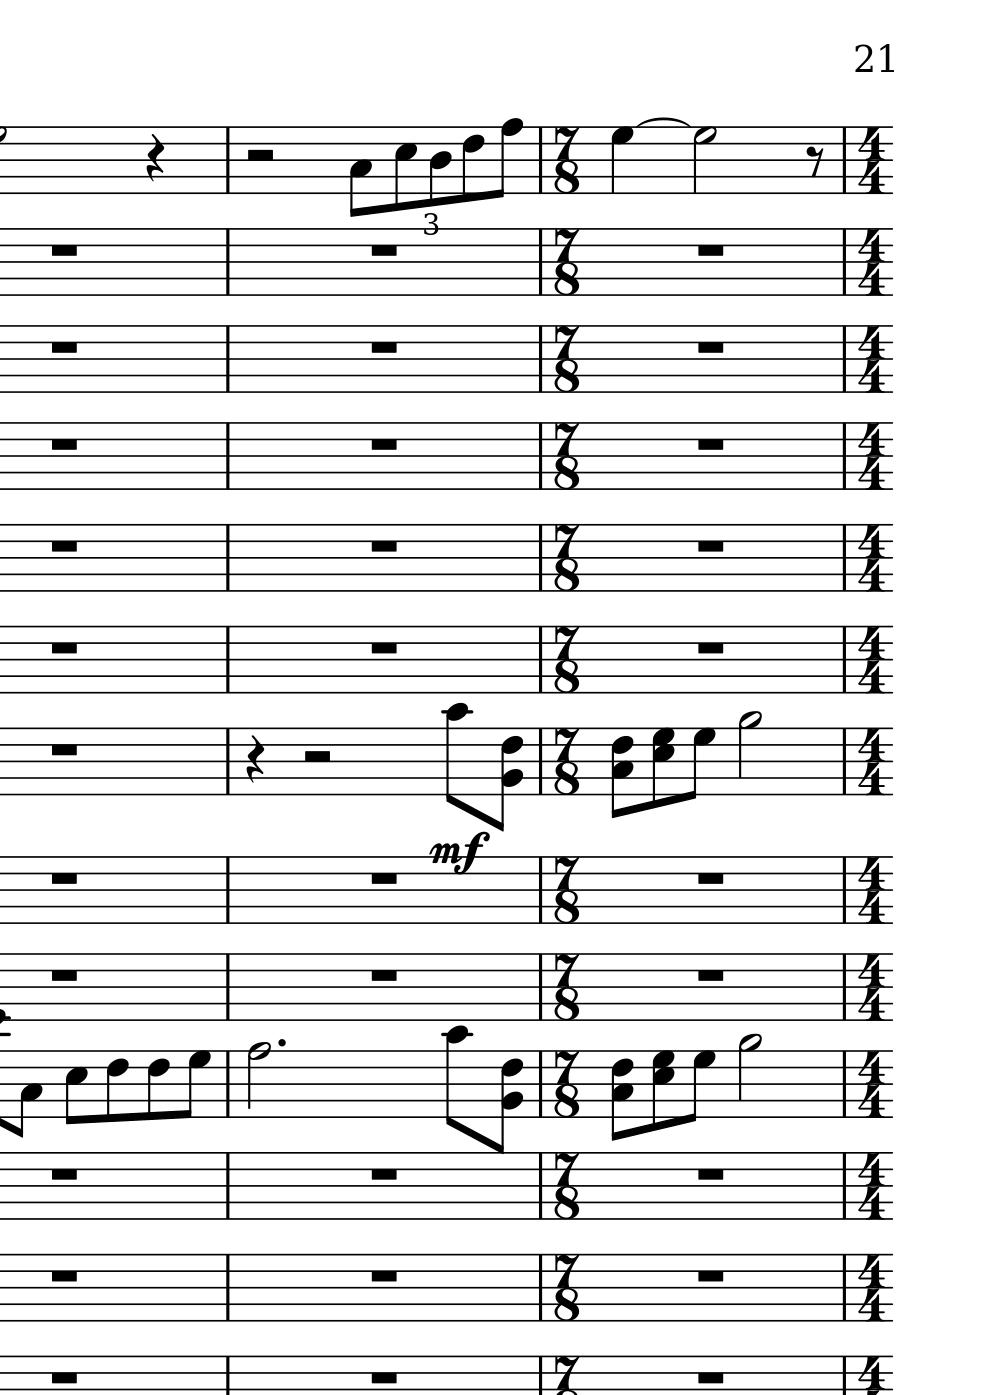1: (877, 41, 894, 75)
2: (850, 43, 875, 74)
2_7: (691, 124, 717, 195)
2_8: (244, 1040, 271, 1122)
2_9: (735, 710, 763, 797), (736, 1034, 763, 1119)
3: (419, 212, 441, 239)
4: (855, 127, 890, 162), (857, 1178, 886, 1220), (855, 324, 888, 360), (855, 856, 888, 891), (857, 455, 888, 492), (857, 1353, 887, 1392), (855, 227, 888, 261), (856, 727, 888, 762), (856, 422, 887, 458), (856, 953, 887, 988), (856, 1050, 887, 1085), (857, 1253, 888, 1288), (857, 555, 886, 592), (856, 160, 888, 193), (857, 625, 888, 660), (856, 359, 887, 392), (857, 261, 887, 295), (857, 762, 887, 795), (857, 890, 887, 923), (857, 987, 887, 1020), (857, 659, 886, 693), (857, 1287, 886, 1321), (858, 1084, 888, 1116)
4_7: (608, 125, 635, 196)
7: (548, 951, 584, 987), (548, 1253, 584, 1288), (551, 124, 583, 162), (548, 1049, 582, 1085), (548, 854, 581, 889), (552, 422, 584, 456), (552, 1150, 583, 1185), (551, 225, 581, 261), (550, 1356, 581, 1390), (552, 524, 581, 560), (552, 625, 583, 659), (552, 324, 581, 360), (553, 728, 581, 761)
8: (547, 457, 585, 490), (548, 986, 582, 1021), (548, 1184, 581, 1220), (550, 1084, 584, 1117), (547, 1288, 581, 1321), (550, 261, 581, 297), (551, 559, 583, 592), (552, 660, 584, 693), (552, 161, 583, 195), (548, 762, 579, 796), (551, 889, 581, 924), (551, 362, 584, 392)
8_10: (444, 701, 471, 809), (444, 1025, 470, 1126)
8_2_6: (489, 1049, 524, 1151), (493, 726, 526, 833)
8_3: (12, 1048, 41, 1136), (347, 124, 372, 218)
8_3_6: (609, 1048, 635, 1141), (610, 725, 635, 820)
8_4: (427, 125, 451, 207)
8_5: (392, 125, 416, 212), (64, 1049, 88, 1126)
8_5_7: (650, 725, 675, 809), (650, 1048, 675, 1130)
8_6: (459, 125, 484, 204), (104, 1049, 129, 1124), (145, 1049, 170, 1122)
8_7: (685, 726, 715, 802), (178, 1049, 210, 1120), (686, 1048, 715, 1124)
8_8: (490, 116, 523, 200)
Rests1: (691, 535, 728, 556), (47, 534, 81, 556), (691, 336, 729, 356), (691, 637, 729, 657), (45, 1163, 82, 1184), (46, 739, 81, 760), (46, 1264, 81, 1285), (366, 336, 402, 356), (691, 433, 728, 454), (367, 535, 401, 556), (691, 1368, 729, 1388), (46, 240, 81, 260), (366, 239, 401, 259), (46, 637, 81, 657), (366, 869, 401, 889), (46, 1367, 81, 1388), (366, 1367, 401, 1388), (366, 638, 402, 657), (693, 965, 729, 984), (365, 1164, 401, 1184), (47, 336, 81, 356), (367, 433, 401, 454), (47, 867, 81, 887), (693, 240, 728, 259), (693, 869, 728, 888), (366, 965, 401, 984), (693, 1266, 728, 1285), (47, 433, 80, 454), (47, 964, 80, 984), (367, 1266, 401, 1285), (693, 1166, 728, 1183)
Rests2: (298, 746, 336, 768), (242, 145, 277, 167)
Rests4: (244, 733, 266, 783), (145, 133, 165, 184)
Rests8: (805, 144, 825, 178)
Single_barline: (530, 728, 551, 796), (530, 1050, 551, 1119), (530, 627, 551, 694), (531, 125, 551, 194), (531, 524, 550, 592), (531, 326, 550, 393), (218, 423, 236, 490), (531, 424, 550, 491), (218, 525, 236, 591), (219, 729, 237, 795), (531, 954, 550, 1020), (218, 627, 236, 692), (531, 856, 548, 924), (219, 857, 236, 925), (834, 126, 852, 193), (834, 228, 852, 296), (219, 126, 235, 195), (219, 324, 235, 394), (532, 1152, 548, 1221), (836, 856, 852, 924), (219, 1254, 235, 1322), (532, 1254, 548, 1322), (532, 228, 548, 296), (219, 1153, 235, 1220), (836, 328, 852, 393), (836, 424, 852, 489), (220, 1052, 236, 1117), (836, 1255, 852, 1320), (836, 526, 850, 591), (836, 627, 850, 692), (836, 1154, 850, 1219), (220, 228, 234, 298), (836, 730, 850, 794), (220, 955, 235, 1018), (837, 956, 850, 1020), (837, 1053, 850, 1116)
Slur: (636, 115, 691, 128)
TimeSig: (855, 422, 889, 492), (855, 324, 888, 394), (856, 524, 889, 593), (856, 1152, 889, 1221), (855, 228, 888, 297), (855, 627, 888, 695), (856, 126, 888, 196), (856, 856, 888, 925), (856, 1050, 888, 1120), (856, 1254, 888, 1323), (856, 728, 888, 796), (856, 954, 888, 1023), (552, 727, 581, 799), (552, 227, 581, 299), (552, 523, 581, 595), (552, 855, 581, 926), (553, 125, 581, 197), (553, 324, 581, 396), (553, 422, 581, 493), (553, 624, 581, 696), (552, 1154, 581, 1222), (553, 1051, 581, 1122), (553, 1253, 581, 1323), (553, 952, 579, 1024), (552, 1354, 583, 1395), (857, 1356, 886, 1394)
mf: (428, 830, 488, 875)
